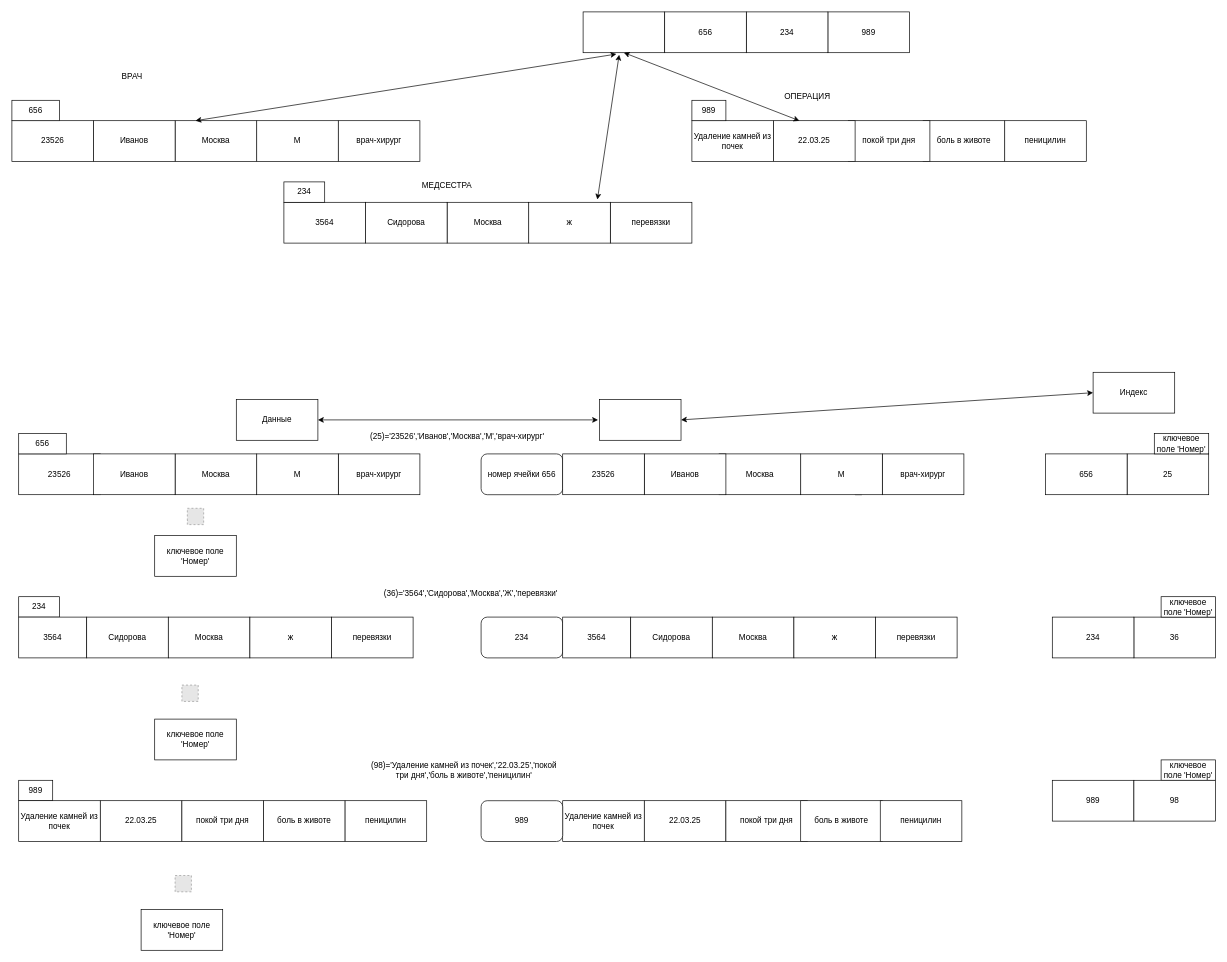
Some shapes in this 1227 by 962 pixel diagram are drawn without their labels. Grey dashed boxes stand in for pictures. Here are the shapes that lost their labels. From the top down, the box of each, then its label:
(582, 11, 665, 53): БД Стоматология
(599, 399, 681, 440): Память
